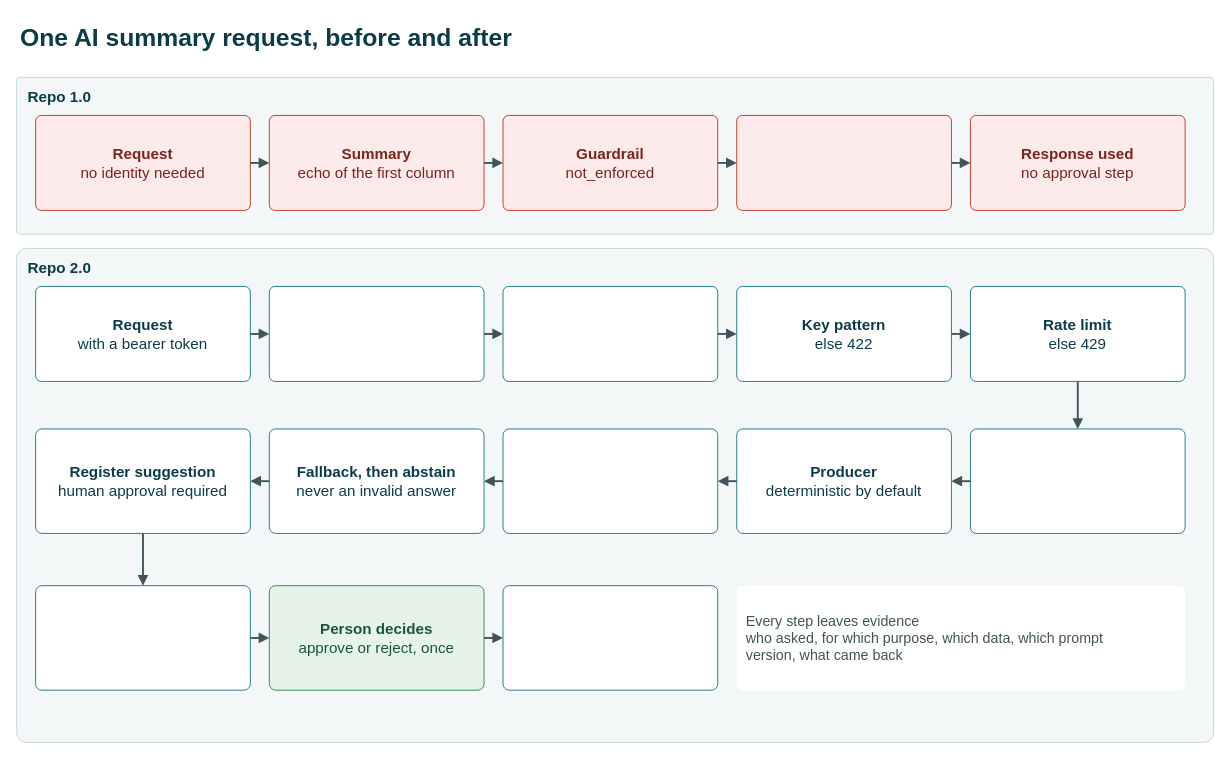
The diagram is 1230 pixels wide and 759 high, and some of its shapes have lost their labels. Here are the shapes that lost their labels. From the top down, the centre of each, then its label:
point 843,162: Audit line no actor, no correlation id
point 376,333: Verify token else 401
point 610,333: Policy check persona, entity, purpose; else 403
point 610,480: Check output schema, leaks, confidence
point 1077,480: Build context allowed fields only, text sanitised
point 142,637: Audit event hash-chained
point 610,637: A second decision refused (409)
